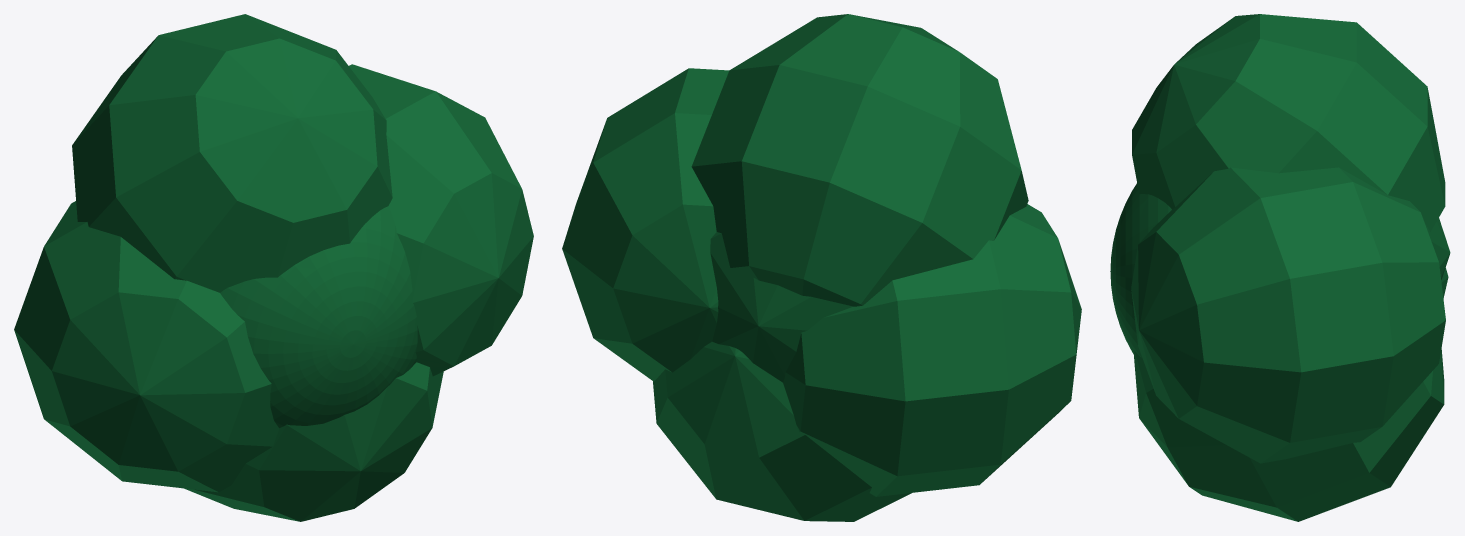
File: bush.obj
3 views of the same model, side by side, from view 1: azimuth 30°, elevation 25°; view 2: azimuth 150°, elevation 25°; view 3: azimuth 270°, elevation 25° (orthographic). The views are drawn at different scales.
Visible parts, largest first — view 1: obj_0; view 2: obj_0; view 3: obj_0.
Part boxes in pixels (x1=…): obj_0: x1=14, y1=14, x2=533, y2=521; obj_0: x1=562, y1=14, x2=1081, y2=521; obj_0: x1=1110, y1=14, x2=1450, y2=521.
Bounding box in the file's own units: 32 × 31 × 21.
